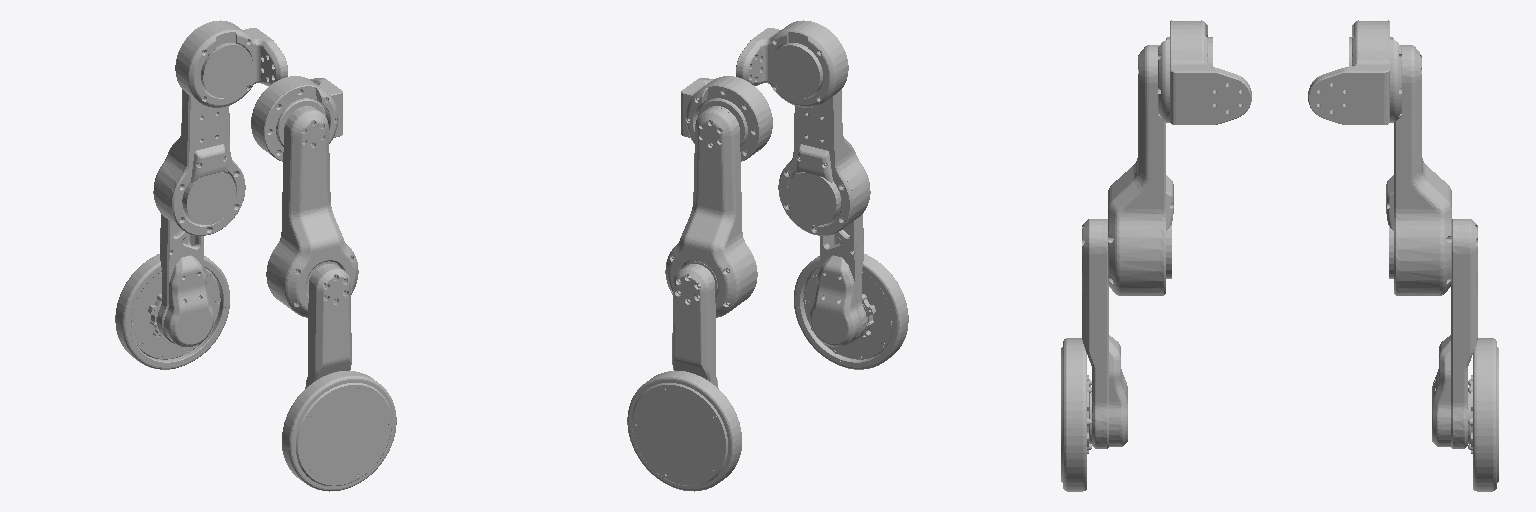
robot.urdf — big_pineapple:
<?xml version="1.0" encoding="utf-8"?>
<!-- This URDF was automatically created by SolidWorks to URDF Exporter! Originally created by Stephen Brawner (brawner@gmail.com) 
     Commit Version: 1.6.0-4-g7f85cfe  Build Version: 1.6.7995.38578
     For more information, please see http://wiki.ros.org/sw_urdf_exporter -->
<robot
  name="big_pineapple">
  <mujoco>
  <compiler
    meshdir="../meshes"
    balanceinertia="true"
    discardvisual="false" />
  </mujoco>
  <link
    name="base_link">
    <inertial>
      <origin
        xyz="0.0337386931825174 0.000107575127938617 0.0532234763264923"
        rpy="0 0 0" />
      <mass
        value="1.90402792077065" />
      <inertia
        ixx="0.00547292038151444"
        ixy="-1.15725204872553E-07"
        ixz="-6.94630478572527E-05"
        iyy="0.00250673132651016"
        iyz="4.18252362832564E-07"
        izz="0.00573466731241499" />
    </inertial>
    <visual>
      <origin
        xyz="0 0 0"
        rpy="0 0 0" />
      <geometry>
        <mesh
          filename="../meshes/base_link.STL" />
      </geometry>
      <material
        name="">
        <color
          rgba="0.752941176470588 0.752941176470588 0.752941176470588 1" />
      </material>
    </visual>
    <collision>
      <origin
        xyz="0 0 0"
        rpy="0 0 0" />
      <geometry>
        <mesh
          filename="../meshes/base_link_collision.STL" />
      </geometry>
    </collision>
  </link>
  <link
    name="R_hip">
    <inertial>
      <origin
        xyz="0.000230846290264036 -0.0364546197203938 -0.000109383050685627"
        rpy="0 0 0" />
      <mass
        value="0.417689769720244" />
      <inertia
        ixx="0.000317641251210601"
        ixy="-3.40877519170981E-05"
        ixz="-1.18432850428372E-06"
        iyy="0.000561818615938087"
        iyz="2.73070823435776E-07"
        izz="0.000395344434589926" />
    </inertial>
    <visual>
      <origin
        xyz="0 0 0"
        rpy="0 0 0" />
      <geometry>
        <mesh
          filename="../meshes/R_hip.STL" />
      </geometry>
      <material
        name="">
        <color
          rgba="0.752941176470588 0.752941176470588 0.752941176470588 1" />
      </material>
    </visual>
  </link>
  <joint
    name="R_hip_joint"
    type="continuous">
    <origin
      xyz="0 -0.0523232764722705 0.0429597636668712"
      rpy="0 0 0" />
    <parent
      link="base_link" />
    <child
      link="R_hip" />
    <axis
      xyz="1 0 0" />
  </joint>
  <link
    name="R_thigh">
    <inertial>
      <origin
        xyz="-2.09264138398453E-06 -0.0311522937775789 -0.157939425666657"
        rpy="0 0 0" />
      <mass
        value="0.655517467691051" />
      <inertia
        ixx="0.00203634189778406"
        ixy="-9.5612402753933E-09"
        ixz="-1.50173208299635E-07"
        iyy="0.0022737141646311"
        iyz="-0.000141483576829367"
        izz="0.000522263284413159" />
    </inertial>
    <visual>
      <origin
        xyz="0 0 0"
        rpy="0 0 0" />
      <geometry>
        <mesh
          filename="../meshes/R_thigh.STL" />
      </geometry>
      <material
        name="">
        <color
          rgba="0.752941176470588 0.752941176470588 0.752941176470588 1" />
      </material>
    </visual>
    <collision>
      <origin
        xyz="0 0 0"
        rpy="0 0 0" />
      <geometry>
        <mesh
          filename="../meshes/R_thigh_collision.STL" />
      </geometry>
    </collision>
  </link>
  <joint
    name="R_thigh_joint"
    type="continuous">
    <origin
      xyz="-0.00923330671551043 -0.0546575602267209 0"
      rpy="0 0 0" />
    <parent
      link="R_hip" />
    <child
      link="R_thigh" />
    <axis
      xyz="0 1 0" />
  </joint>
  <link
    name="R_thigh_imu">
    <inertial>
      <origin
        xyz="-0.000328780720923958 -4.42118118504364E-09 0.00227081644674082"
        rpy="0 0 0" />
      <mass
        value="0.00259593385150453" />
      <inertia
        ixx="3.39087552716935E-07"
        ixy="-4.52219907831723E-13"
        ixz="-1.88349270969897E-09"
        iyy="2.16648038381956E-07"
        iyz="-5.05683655858715E-14"
        izz="5.2996485824982E-07" />
    </inertial>
    <visual>
      <origin
        xyz="0 0 0"
        rpy="0 0 0" />
      <geometry>
        <mesh
          filename="../meshes/R_thigh_imu.STL" />
      </geometry>
      <material
        name="">
        <color
          rgba="0.6 0.6 0.6 1" />
      </material>
    </visual>
  </link>
  <joint
    name="R_thigh_imu_joint"
    type="fixed" dont_collapse="true">
    <origin
      xyz="0 -0.0185191622646602 -0.094999999755234"
      rpy="1.5707963267949 0 0" />
    <parent
      link="R_thigh" />
    <child
      link="R_thigh_imu" />
    <axis
      xyz="0 0 1" />
  </joint>
  <link
    name="R_calf">
    <inertial>
      <origin
        xyz="-0.000115363849478457 -0.0281602676494269 -0.0967215888284827"
        rpy="0 0 0" />
      <mass
        value="0.18632636032236" />
      <inertia
        ixx="0.000741385959263919"
        ixy="4.9751107754328E-09"
        ixz="5.11301827270702E-07"
        iyy="0.000789391542995237"
        iyz="9.9895159318659E-06"
        izz="5.59669742503781E-05" />
    </inertial>
    <visual>
      <origin
        xyz="0 0 0"
        rpy="0 0 0" />
      <geometry>
        <mesh
          filename="../meshes/R_calf.STL" />
      </geometry>
      <material
        name="">
        <color
          rgba="0.752941176470588 0.752941176470588 0.752941176470588 1" />
      </material>
    </visual>
    <collision>
      <origin
        xyz="0 0 0"
        rpy="0 0 0" />
      <geometry>
        <mesh
          filename="../meshes/R_calf_collision.STL" />
      </geometry>
    </collision>
  </link>
  <joint
    name="R_calf_joint"
    type="continuous">
    <origin
      xyz="0 -0.0457696370245483 -0.19"
      rpy="0 0 0" />
    <parent
      link="R_thigh" />
    <child
      link="R_calf" />
    <axis
      xyz="0 1 0" />
  </joint>
  <link
    name="R_calf_imu">
    <inertial>
      <origin
        xyz="-0.000328780720924316 -4.42118097687683E-09 0.00227081644674074"
        rpy="0 0 0" />
      <mass
        value="0.00259593385150452" />
      <inertia
        ixx="3.39087552716934E-07"
        ixy="-4.52219912675035E-13"
        ixz="-1.88349270970204E-09"
        iyy="2.16648038381955E-07"
        iyz="-5.05683633135258E-14"
        izz="5.29964858249817E-07" />
    </inertial>
    <visual>
      <origin
        xyz="0 0 0"
        rpy="0 0 0" />
      <geometry>
        <mesh
          filename="../meshes/R_calf_imu.STL" />
      </geometry>
      <material
        name="">
        <color
          rgba="0.6 0.6 0.6 1" />
      </material>
    </visual>
  </link>
  <joint
    name="R_calf_imu_joint"
    type="fixed" dont_collapse="true">
    <origin
      xyz="0 -0.0145495273128055 -0.141300000244766"
      rpy="-1.5707963267949 0 0" />
    <parent
      link="R_calf" />
    <child
      link="R_calf_imu" />
    <axis
      xyz="0 0 1" />
  </joint>
  <link
    name="R_wheel">
    <inertial>
      <origin
        xyz="1.38873007392293E-07 -0.0131701609330941 4.60846689143146E-08"
        rpy="0 0 0" />
      <mass
        value="0.220088633464725" />
      <inertia
        ixx="0.000441876211638963"
        ixy="-4.28832876461111E-10"
        ixz="8.99335254595545E-09"
        iyy="0.000871935535606689"
        iyz="2.06992246969034E-10"
        izz="0.000441930229391429" />
    </inertial>
    <visual>
      <origin
        xyz="0 0 0"
        rpy="0 0 0" />
      <geometry>
        <mesh
          filename="../meshes/R_wheel.STL" />
      </geometry>
      <material
        name="">
        <color
          rgba="0.752941176470588 0.752941176470588 0.752941176470588 1" />
      </material>
    </visual>
    <collision>
      <origin xyz="0 -0.013 0" rpy="-1.5708 0 0"/>  
      <geometry>
        <cylinder radius="0.077" length="0.026"/>
      </geometry>
    </collision>
  </link>
  <joint
    name="R_wheel_joint"
    type="continuous">
    <origin
      xyz="0 -0.0410995262764568 -0.19"
      rpy="0 0 0" />
    <parent
      link="R_calf" />
    <child
      link="R_wheel" />
    <axis
      xyz="0 1 0" />
  </joint>
  <link
    name="L_hip">
    <inertial>
      <origin
        xyz="0.000233036763322026 0.0373619520260734 -0.000107238336985921"
        rpy="0 0 0" />
      <mass
        value="0.417683808810164" />
      <inertia
        ixx="0.000317671867833456"
        ixy="3.40870877576495E-05"
        ixz="-1.14537133964642E-06"
        iyy="0.000561817008344354"
        iyz="-2.7531455132158E-07"
        izz="0.000395310664360838" />
    </inertial>
    <visual>
      <origin
        xyz="0 0 0"
        rpy="0 0 0" />
      <geometry>
        <mesh
          filename="../meshes/L_hip.STL" />
      </geometry>
      <material
        name="">
        <color
          rgba="0.752941176470588 0.752941176470588 0.752941176470588 1" />
      </material>
    </visual>
  </link>
  <joint
    name="L_hip_joint"
    type="continuous">
    <origin
      xyz="0 0.0523232764722705 0.0429597636668712"
      rpy="0 0 0" />
    <parent
      link="base_link" />
    <child
      link="L_hip" />
    <axis
      xyz="1 0 0" />
  </joint>
  <link
    name="L_thigh">
    <inertial>
      <origin
        xyz="3.34999036821423E-07 0.032049076363846 -0.157938600311648"
        rpy="0 0 0" />
      <mass
        value="0.655517726345292" />
      <inertia
        ixx="0.00203623702346194"
        ixy="-1.18647664895456E-08"
        ixz="-4.46192311884402E-08"
        iyy="0.00227359549144005"
        iyz="0.000141480490307186"
        izz="0.000522245227033847" />
    </inertial>
    <visual>
      <origin
        xyz="0 0 0"
        rpy="0 0 0" />
      <geometry>
        <mesh
          filename="../meshes/L_thigh.STL" />
      </geometry>
      <material
        name="">
        <color
          rgba="0.752941176470588 0.752941176470588 0.752941176470588 1" />
      </material>
    </visual>
    <collision>
      <origin
        xyz="0 0 0"
        rpy="0 0 0" />
      <geometry>
        <mesh
          filename="../meshes/L_thigh_collision.STL" />
      </geometry>
    </collision>
  </link>
  <joint
    name="L_thigh_joint"
    type="continuous">
    <origin
      xyz="-0.00923330671551043 0.0546575602267204 0"
      rpy="0 0 0" />
    <parent
      link="L_hip" />
    <child
      link="L_thigh" />
    <axis
      xyz="0 1 0" />
  </joint>
  <link
    name="L_thigh_imu">
    <inertial>
      <origin
        xyz="-0.000328780720923913 -4.42118122667701E-09 0.00227081644674088"
        rpy="0 0 0" />
      <mass
        value="0.00259593385150454" />
      <inertia
        ixx="3.39087552716933E-07"
        ixy="-4.52219906922474E-13"
        ixz="-1.88349270969946E-09"
        iyy="2.16648038381957E-07"
        iyz="-5.05683670869743E-14"
        izz="5.29964858249819E-07" />
    </inertial>
    <visual>
      <origin
        xyz="0 0 0"
        rpy="0 0 0" />
      <geometry>
        <mesh
          filename="../meshes/L_thigh_imu.STL" />
      </geometry>
      <material
        name="">
        <color
          rgba="0.6 0.6 0.6 1" />
      </material>
    </visual>
  </link>
  <joint
    name="L_thigh_imu_joint"
    type="fixed" dont_collapse="true">
    <origin
      xyz="0 0.0185191622646615 -0.0950000002447662"
      rpy="-1.5707963267949 0 0" />
    <parent
      link="L_thigh" />
    <child
      link="L_thigh_imu" />
    <axis
      xyz="0 0 1" />
  </joint>
  <link
    name="L_calf">
    <inertial>
      <origin
        xyz="-0.000115788834786999 0.0281604481839686 -0.0967216871040439"
        rpy="0 0 0" />
      <mass
        value="0.18632434312664" />
      <inertia
        ixx="0.000741376331369724"
        ixy="-4.98007077189609E-09"
        ixz="5.12818784995218E-07"
        iyy="0.00078937900492503"
        iyz="-9.99013382455012E-06"
        izz="5.59641752838275E-05" />
    </inertial>
    <visual>
      <origin
        xyz="0 0 0"
        rpy="0 0 0" />
      <geometry>
        <mesh
          filename="../meshes/L_calf.STL" />
      </geometry>
      <material
        name="">
        <color
          rgba="0.752941176470588 0.752941176470588 0.752941176470588 1" />
      </material>
    </visual>
    <collision>
      <origin
        xyz="0 0 0"
        rpy="0 0 0" />
      <geometry>
        <mesh
          filename="../meshes/L_calf_collision.STL" />
      </geometry>
    </collision>
  </link>
  <joint
    name="L_calf_joint"
    type="continuous">
    <origin
      xyz="0 0.0457696370245489 -0.19"
      rpy="0 0 0" />
    <parent
      link="L_thigh" />
    <child
      link="L_calf" />
    <axis
      xyz="0 1 0" />
  </joint>
  <link
    name="L_calf_imu">
    <inertial>
      <origin
        xyz="-0.000328780720924031 -4.42118064380992E-09 0.00227081644674071"
        rpy="0 0 0" />
      <mass
        value="0.00259593385150462" />
      <inertia
        ixx="3.39087552716945E-07"
        ixy="-4.52219907550481E-13"
        ixz="-1.88349270970136E-09"
        iyy="2.1664803838196E-07"
        iyz="-5.05683607899115E-14"
        izz="5.29964858249832E-07" />
    </inertial>
    <visual>
      <origin
        xyz="0 0 0"
        rpy="0 0 0" />
      <geometry>
        <mesh
          filename="../meshes/L_calf_imu.STL" />
      </geometry>
      <material
        name="">
        <color
          rgba="0.6 0.6 0.6 1" />
      </material>
    </visual>
  </link>
  <joint
    name="L_calf_imu_joint"
    type="fixed" dont_collapse="true">
    <origin
      xyz="0 0.0145495273128061 -0.141299999755234"
      rpy="1.5707963267949 0 0" />
    <parent
      link="L_calf" />
    <child
      link="L_calf_imu" />
    <axis
      xyz="0 0 1" />
  </joint>
  <link
    name="L_wheel">
    <inertial>
      <origin
        xyz="1.17499312637243E-07 0.0131701637460656 -1.85870645152963E-07"
        rpy="0 0 0" />
      <mass
        value="0.220085883233079" />
      <inertia
        ixx="0.000441875695111946"
        ixy="4.16239186836865E-10"
        ixz="1.281149879976E-08"
        iyy="0.000871925835936869"
        iyz="-4.2934402194652E-10"
        izz="0.000441921037744766" />
    </inertial>
    <visual>
      <origin
        xyz="0 0 0"
        rpy="0 0 0" />
      <geometry>
        <mesh
          filename="../meshes/L_wheel.STL" />
      </geometry>
      <material
        name="">
        <color
          rgba="0.752941176470588 0.752941176470588 0.752941176470588 1" />
      </material>
    </visual>
    <collision>
      <geometry>
      <origin xyz="0 0.013 0" rpy="1.5708 0 0"/> 
        <cylinder radius="0.077" length="0.026"/>
      </geometry>
    </collision>
  </link>
  <joint
    name="L_wheel_joint"
    type="continuous">
    <origin
      xyz="0 0.0410995262764575 -0.19"
      rpy="0 0 0" />
    <parent
      link="L_calf" />
    <child
      link="L_wheel" />
    <axis
      xyz="0 1 0" />
  </joint>
</robot>

--- Render facts (derived) ---
Views: 3 orthographic renders of the robot side by side, from view 1: azimuth 30°, elevation 25°; view 2: azimuth 150°, elevation 25°; view 3: azimuth 270°, elevation 25°.
Robot: big_pineapple — 13 links, 12 joints (8 continuous, 4 fixed); root link base_link; default pose: all joints at 0.
Links seen in each view (by area): view 1: R_wheel, R_thigh, L_thigh, L_hip, L_wheel, L_calf, R_calf, R_hip; view 2: L_wheel, L_thigh, R_thigh, R_hip, R_wheel, R_calf, L_calf, L_hip; view 3: R_thigh, L_thigh, R_calf, L_calf, R_hip, L_hip, R_wheel, L_wheel.
Boxes of the visible links, x1,y1,x2,y2 form: R_wheel: (282, 371, 396, 491); R_thigh: (266, 106, 358, 317); L_thigh: (153, 89, 245, 235); L_hip: (175, 20, 287, 107); L_wheel: (115, 254, 229, 369); L_calf: (148, 214, 213, 346); R_calf: (305, 264, 351, 388); R_hip: (251, 76, 342, 161); L_wheel: (627, 371, 741, 491); L_thigh: (665, 106, 757, 317); R_thigh: (778, 89, 870, 235); R_hip: (736, 20, 848, 107); R_wheel: (794, 254, 908, 369); R_calf: (810, 214, 875, 346); L_calf: (672, 264, 718, 388); L_hip: (681, 76, 772, 161); R_thigh: (1108, 45, 1173, 295); L_thigh: (1386, 45, 1451, 295); R_calf: (1082, 219, 1127, 453); L_calf: (1432, 219, 1477, 453); R_hip: (1158, 20, 1251, 124); L_hip: (1308, 20, 1401, 124); R_wheel: (1061, 338, 1086, 491); L_wheel: (1473, 338, 1498, 491).
Size in the robot's own frame: 0.154 by 0.4397 by 0.509 metres.
Meshes: 13 distinct files referenced, 12 mesh visuals loaded (12 binary STL); not drawn: 1 (reference not matched to a file when rendering).
